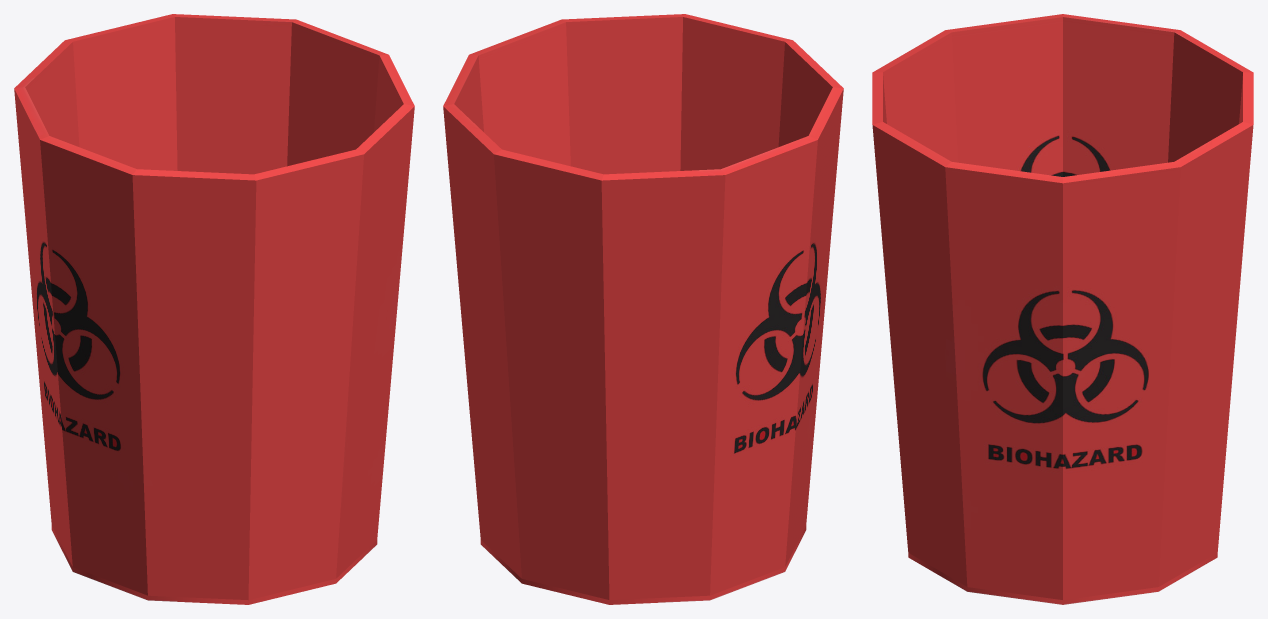
The model's file is biomedical bin.FBX.
3 views of the same model, side by side, from view 1: azimuth 30°, elevation 25°; view 2: azimuth 150°, elevation 25°; view 3: azimuth 270°, elevation 25° (orthographic).
Parts seen in each view (by area): view 1: biomedical waste; view 2: biomedical waste; view 3: biomedical waste.
Boxes of the visible parts, x1,y1,x2,y2 form: biomedical waste: (14, 14, 414, 604); biomedical waste: (443, 14, 843, 604); biomedical waste: (872, 14, 1253, 604).
Size of the model in its own units: 45.18 by 54.65 by 42.97.
Materials: 1 (1 with a texture image).
